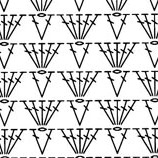enseble_chain: (110, 38, 146, 74), (35, 95, 70, 132), (110, 95, 145, 131), (74, 67, 108, 104), (36, 38, 70, 74), (74, 10, 107, 46), (0, 11, 32, 47), (0, 67, 31, 104), (74, 125, 107, 158), (0, 125, 33, 158), (127, 66, 157, 102), (92, 36, 121, 72), (69, 98, 99, 130), (93, 95, 121, 129), (131, 9, 158, 44), (131, 124, 158, 158), (20, 37, 46, 72), (71, 40, 99, 72), (32, 70, 60, 101), (100, 11, 126, 44), (110, 126, 137, 157), (110, 69, 136, 101), (35, 127, 61, 158), (21, 97, 46, 129), (0, 99, 24, 131), (0, 42, 23, 73), (101, 126, 124, 157), (0, 14, 15, 41), (105, 0, 118, 14)
fan: (56, 125, 83, 158), (57, 10, 83, 44), (21, 38, 46, 71), (26, 69, 49, 101), (97, 39, 120, 70), (137, 125, 158, 156), (69, 70, 88, 99), (0, 128, 15, 156), (35, 42, 51, 68), (144, 13, 158, 40), (145, 70, 158, 98)
